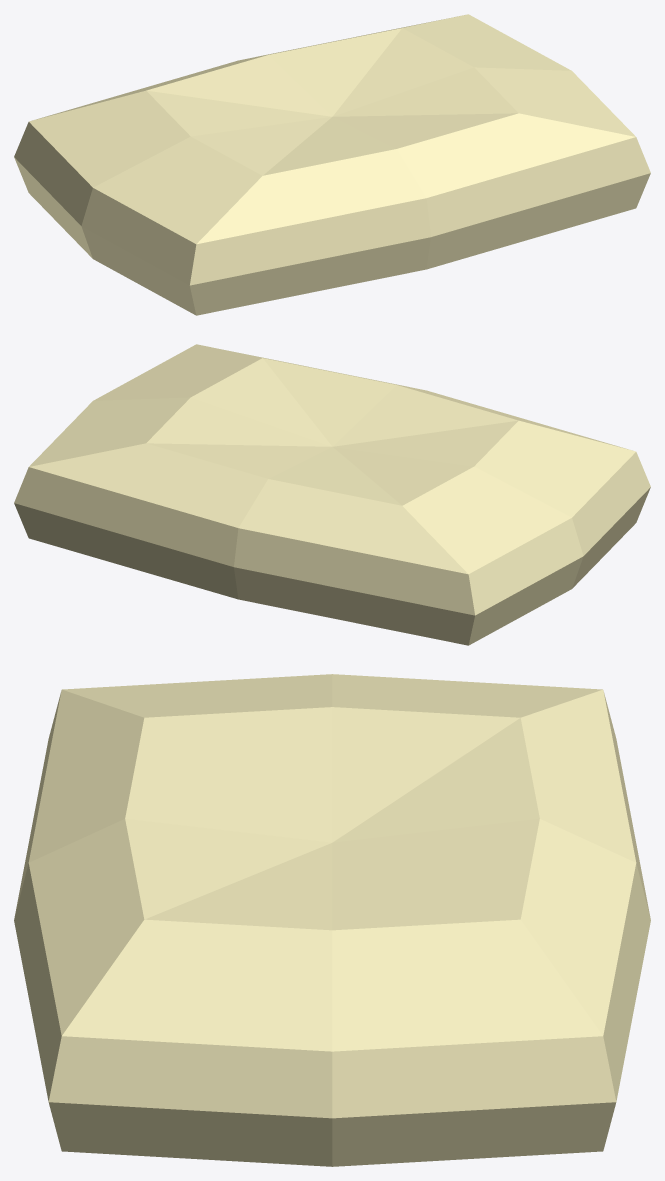
File: Itr_Bed_Pillow_02.FBX
3 renders of one model, top to bottom at view 1: azimuth 30°, elevation 25°; view 2: azimuth 150°, elevation 25°; view 3: azimuth 270°, elevation 25°, orthographic. The views are drawn at different scales.
Parts seen in each view (by area): view 1: Itr_Bed_Pillow_02; view 2: Itr_Bed_Pillow_02; view 3: Itr_Bed_Pillow_02.
Boxes of the visible parts, box(x1,y1,x2,y2) form: Itr_Bed_Pillow_02: box(14, 14, 650, 315); Itr_Bed_Pillow_02: box(14, 344, 650, 645); Itr_Bed_Pillow_02: box(14, 674, 650, 1166).
Size of the model in its own units: 21.39 by 4.02 by 14.55.
